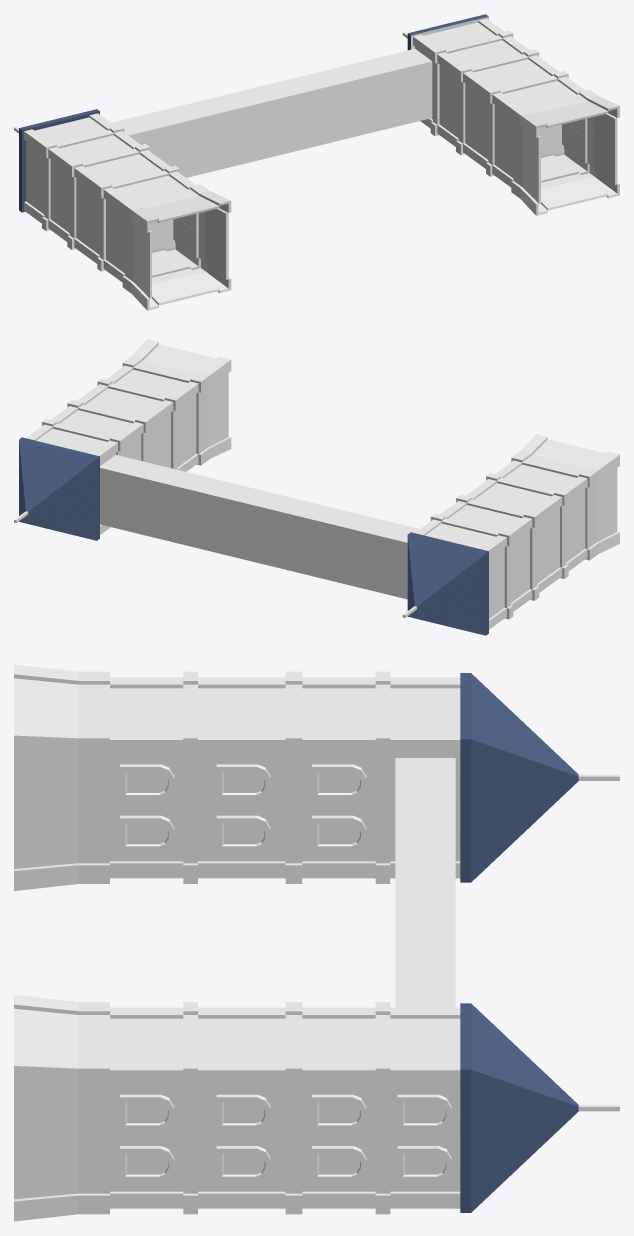
The model's file is venice_enterance.fbx.
3 renders of one model, top to bottom at view 1: azimuth 30°, elevation 25°; view 2: azimuth 150°, elevation 25°; view 3: azimuth 270°, elevation 25°, orthographic. The views are drawn at different scales.
Parts seen in each view (by area): view 1: Cube.284; view 2: Cube.284; view 3: Cube.284.
Boxes of the visible parts, x1,y1,x2,y2 form: Cube.284: [14, 14, 619, 310]; Cube.284: [14, 339, 619, 635]; Cube.284: [14, 664, 619, 1221].
Size of the model in its own units: 4583 by 828 by 2924.
